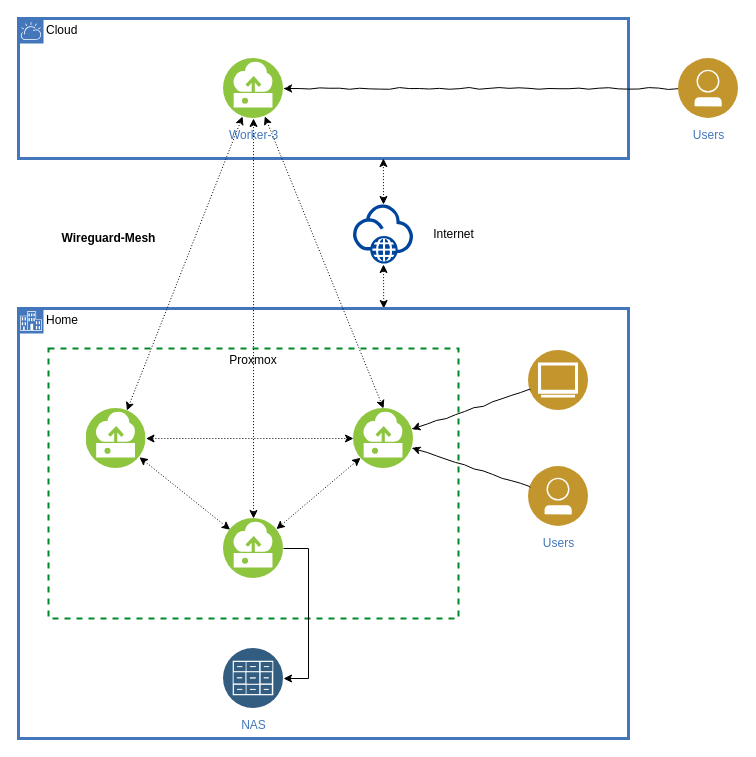
Image size: 756x757. Some labels were removed from this diagram. Here are the shapes that lost their labels. From the top down, the centre of each, then its label:
At (558,380): "Workstation".
At (116,438): "Worker-2".
At (383,438): "Worker-1".
At (253,548): "Control Plane".
